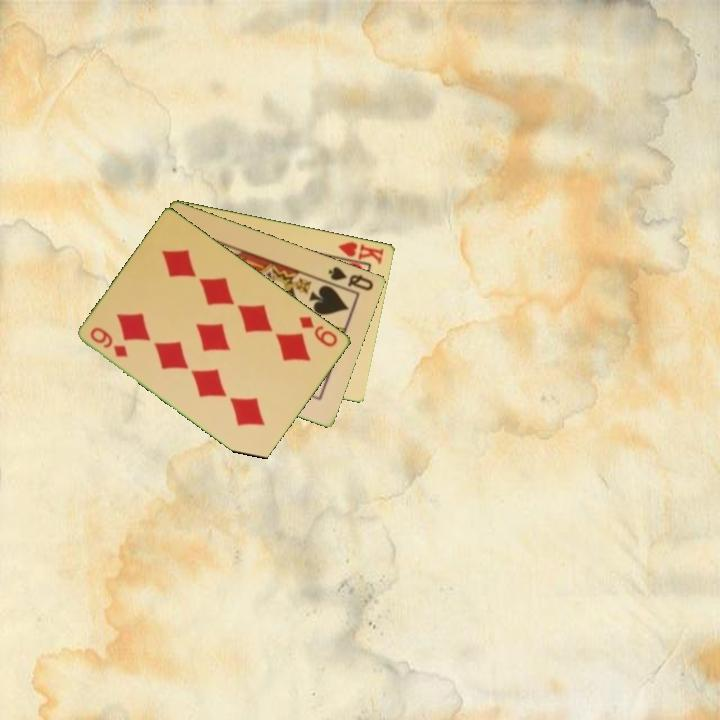9d: (296, 312, 341, 350), (87, 323, 131, 360)
Kh: (330, 238, 387, 267)
Qs: (325, 263, 377, 294)
